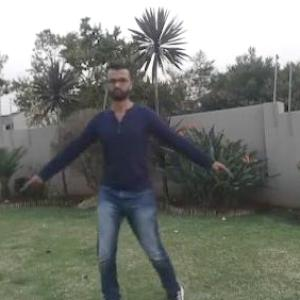land: (66, 82, 204, 252)
